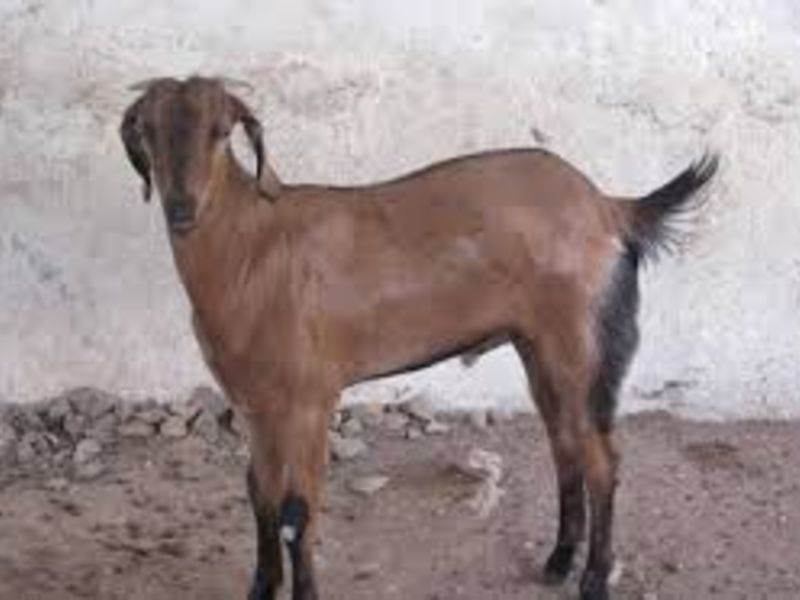goat: (102, 66, 726, 600)
